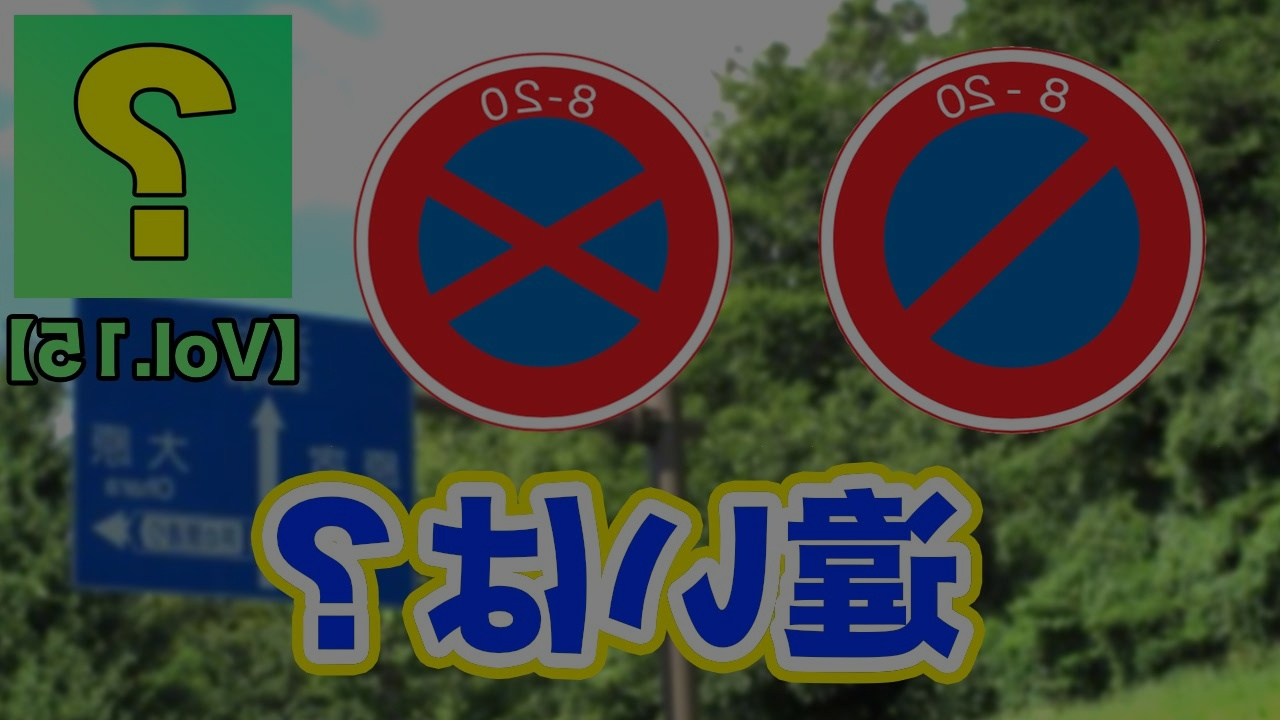Prohibition_sign: (330, 47, 761, 449), (803, 47, 1223, 444)
